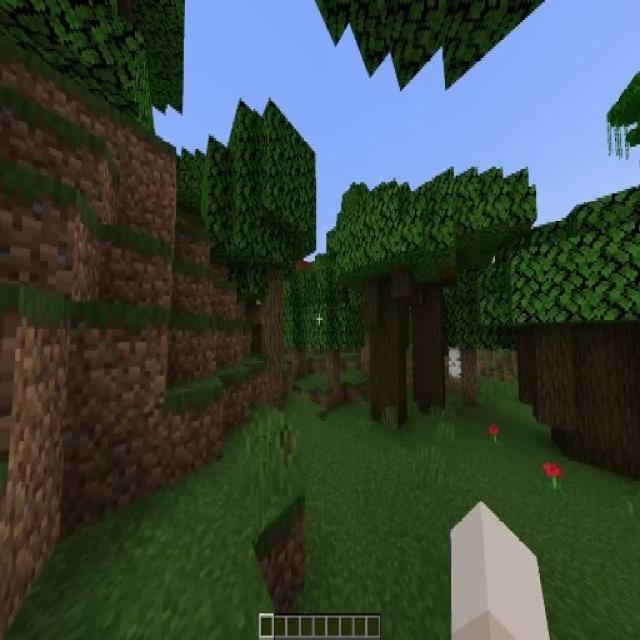birch_log: (448, 347, 461, 379)
dark_oak: (492, 222, 640, 475), (342, 185, 451, 429)
dark_oak_log: (523, 327, 636, 462), (367, 284, 407, 418), (413, 293, 445, 409)
oak: (205, 101, 316, 382), (304, 265, 364, 388)
oak_log: (262, 281, 282, 381), (463, 350, 477, 405), (325, 352, 339, 391)
